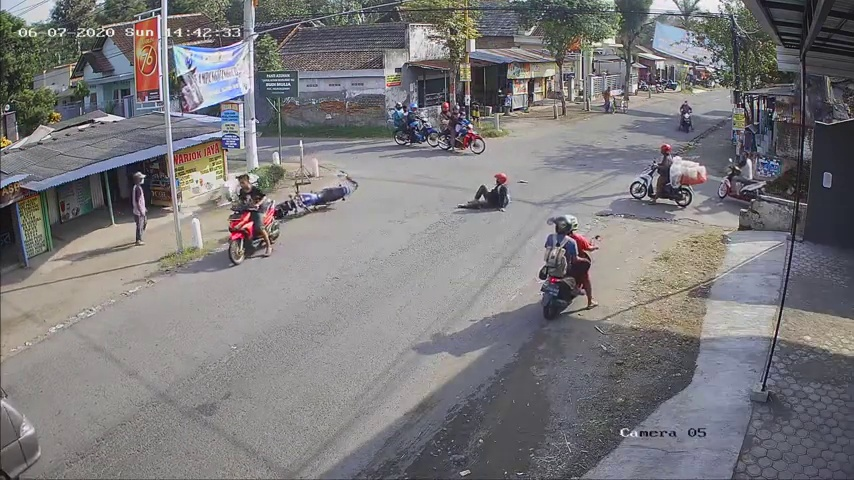motorbike: (542, 216, 593, 323), (228, 172, 282, 263), (632, 145, 693, 207), (720, 145, 763, 201), (439, 104, 484, 154), (391, 103, 441, 148), (678, 100, 694, 133)
